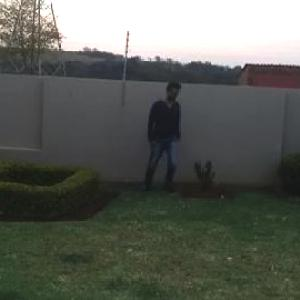follow: (144, 77, 180, 196)
